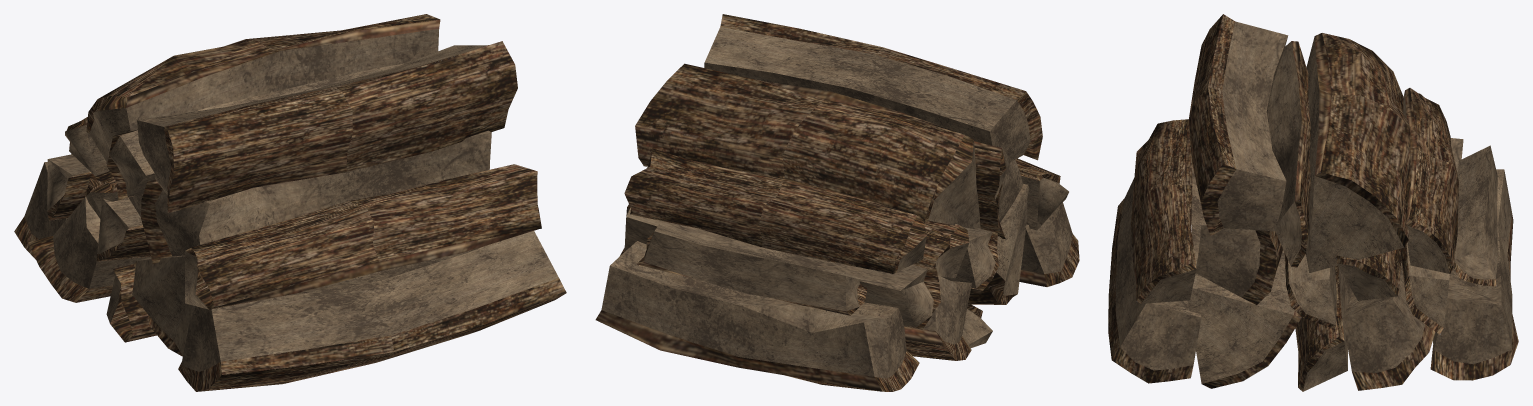
The model's file is Pine_XL.fbx.
3 views of the same model, side by side, from view 1: azimuth 30°, elevation 25°; view 2: azimuth 150°, elevation 25°; view 3: azimuth 270°, elevation 25° (orthographic). The views are drawn at different scales.
Parts seen in each view (by area): view 1: Cube.008; view 2: Cube.008; view 3: Cube.008.
Part boxes in pixels (x1,y1,x2,y2): Cube.008: (14, 14, 566, 391); Cube.008: (595, 14, 1079, 391); Cube.008: (1108, 14, 1518, 391).
Bounding box in the file's own units: 35.12 × 22.39 × 35.28.
